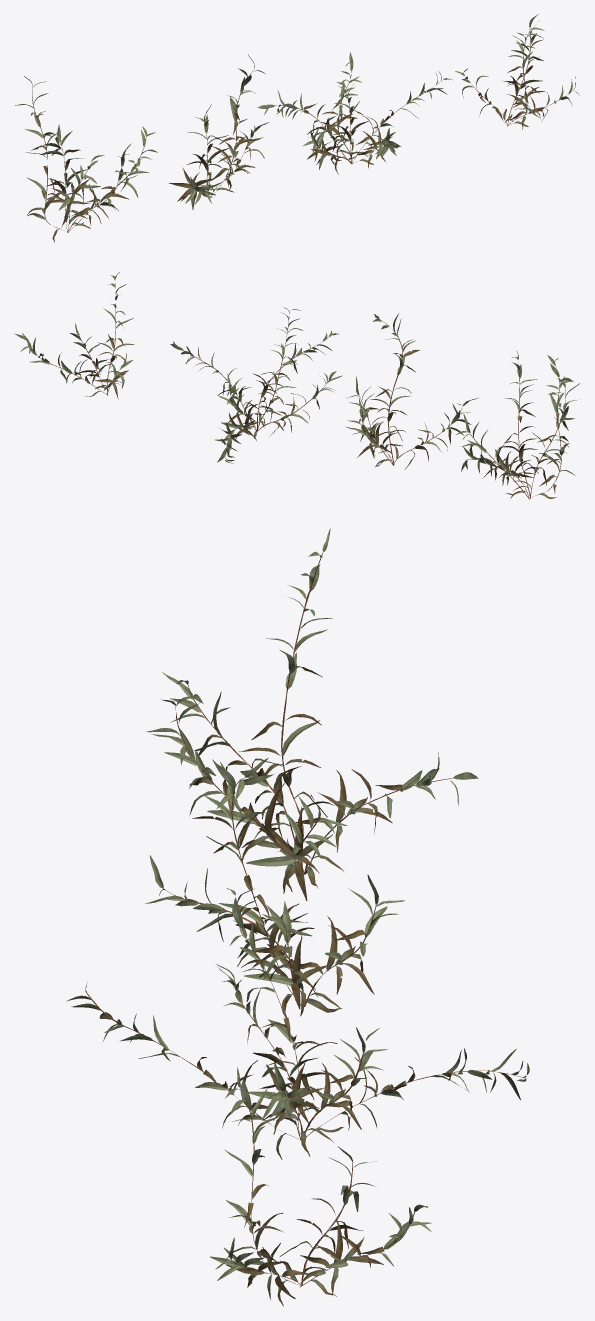
File: shrub_02.glb
The picture shows the model from 3 angles, top to bottom: view 1: azimuth 30°, elevation 25°; view 2: azimuth 150°, elevation 25°; view 3: azimuth 270°, elevation 25°; orthographic projection. The views are drawn at different scales.
Parts seen in each view (by area): view 1: shrub_02_a; view 2: shrub_02_a; view 3: shrub_02_a.
Boxes of the visible parts, x1=… form: shrub_02_a: x1=15, y1=14, x2=579, y2=242; shrub_02_a: x1=14, y1=272, x2=579, y2=499; shrub_02_a: x1=66, y1=528, x2=529, y2=1306.
Bounding box in the file's own units: 6.05 × 1.7 × 2.28.
1 material, 1 textured.
